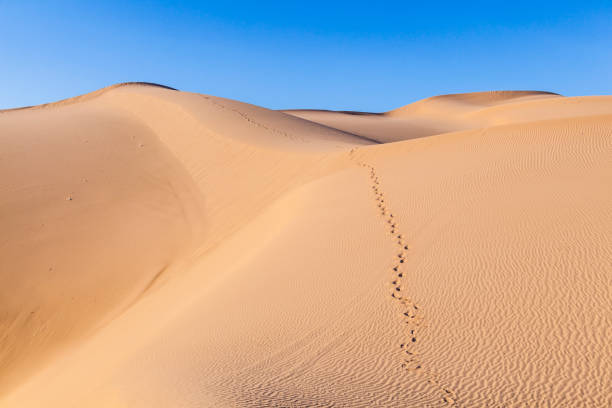animal_footprint: (351, 148, 456, 405)
